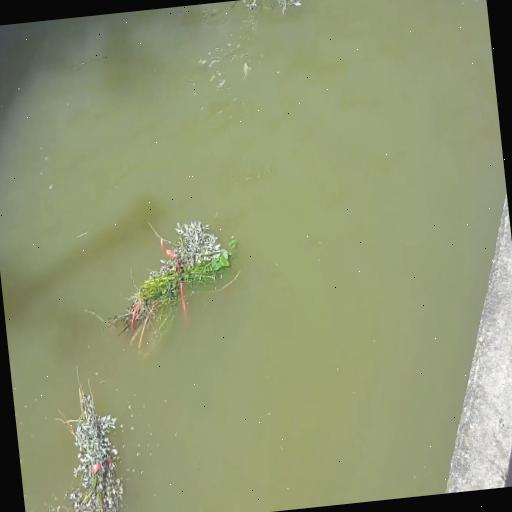twig: (98, 212, 244, 350), (43, 362, 130, 512), (276, 0, 303, 15)
